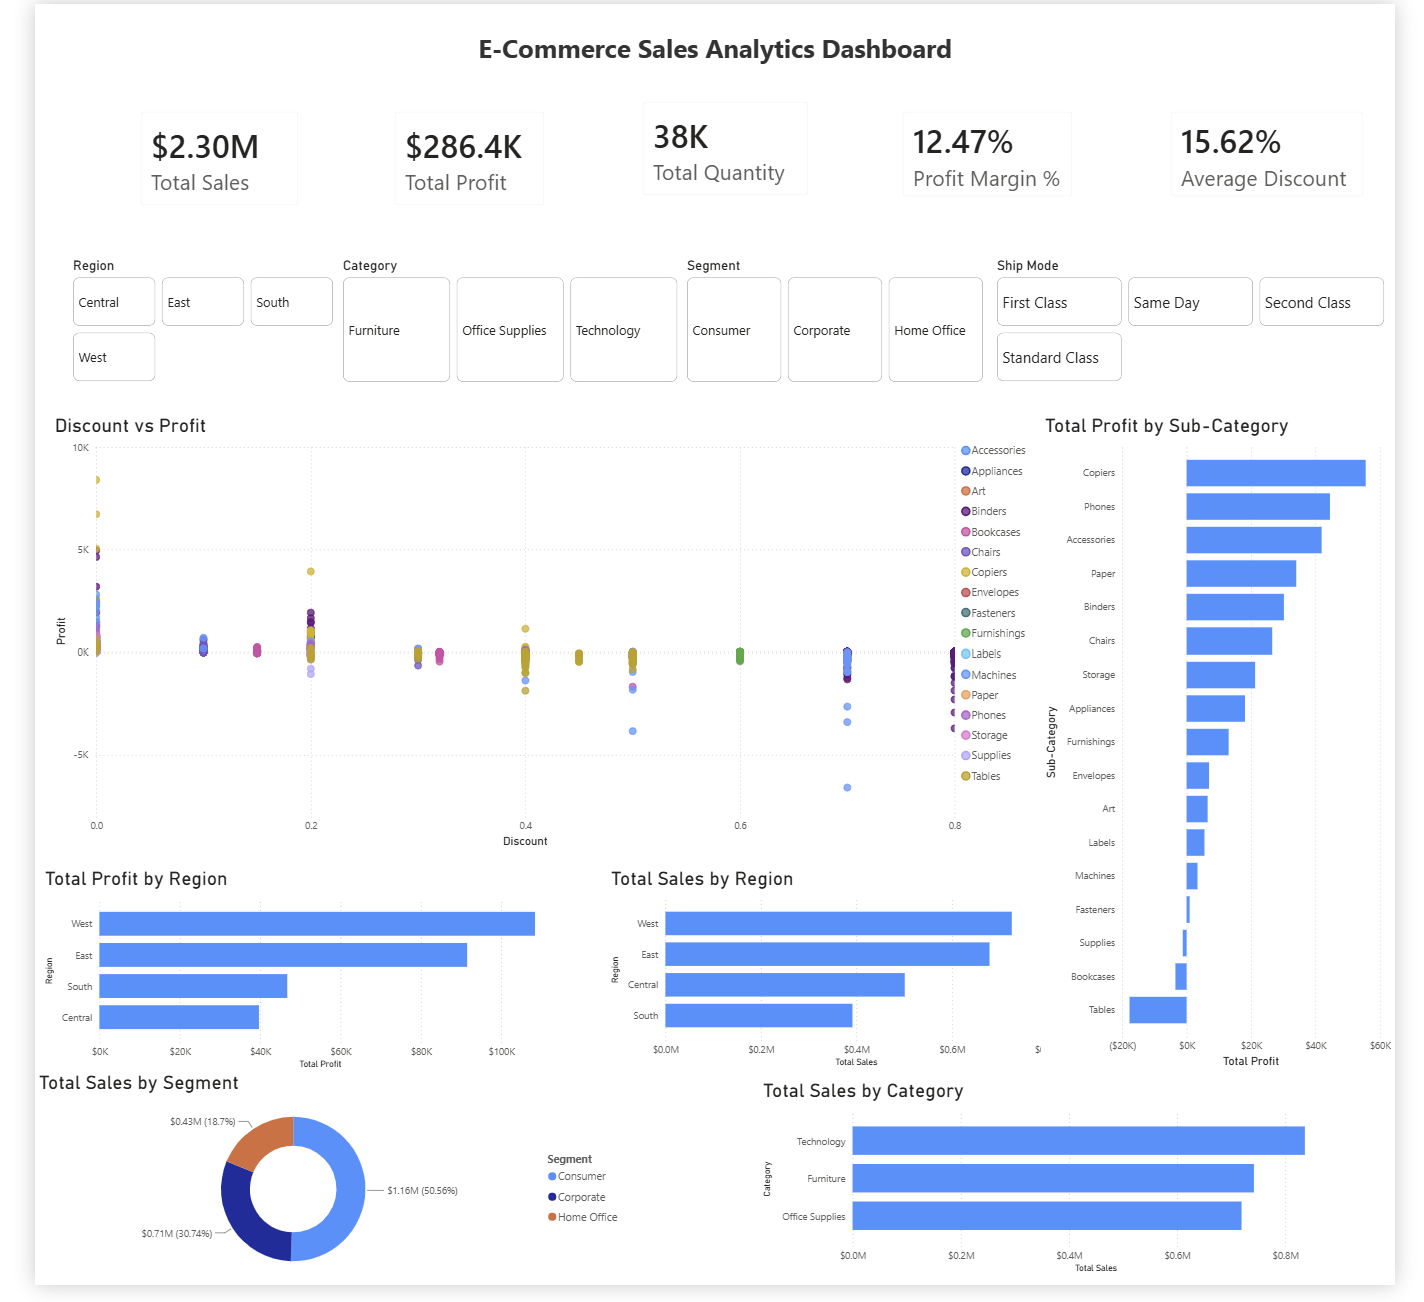

The dashboard page shown, as its layout file describes it:
{"tool":"powerbi","page":{"name":"Page 1","canvas":[1700,1600],"ordinal":0},"visuals":[{"type":"cardVisual","fields":{"Data":["Sales_Data.Total Sales"]},"box":[115,116.7,231.7,151.7],"z":0},{"type":"cardVisual","fields":{"Data":["Sales_Data.Total Profit"]},"box":[431.7,116.7,221.7,151.7],"z":1000},{"type":"cardVisual","fields":{"Data":["Sales_Data.Profit Margin %"]},"box":[1066.7,116.7,246.7,140],"z":2000},{"type":"cardVisual","fields":{"Data":["Sales_Data.Total Quantity"]},"box":[741.7,105,241.7,151.7],"z":3000},{"type":"cardVisual","fields":{"Data":["Sales_Data.Average Discount"]},"box":[1403.3,116.7,275,140],"z":4000},{"type":"clusteredBarChart","fields":{"Category":["Sales_Data.Region"],"Y":["Sales_Data.Total Sales"]},"box":[715,1077.5,572.5,255],"z":5000},{"type":"clusteredBarChart","fields":{"Category":["Sales_Data.Region"],"Y":["Sales_Data.Total Profit"]},"box":[7.5,1077.5,647.5,257.5],"z":6000},{"type":"clusteredBarChart","fields":{"Category":["Sales_Data.Category"],"Y":["Sales_Data.Total Sales"]},"box":[905,1342.5,747.5,247.5],"z":7000},{"type":"clusteredBarChart","fields":{"Category":["Sales_Data.Sub-Category"],"Y":["Sales_Data.Total Profit"]},"box":[1257.5,512.5,442.5,820],"z":8000},{"type":"scatterChart","title":"Discount vs Profit","fields":{"Series":["Sales_Data.Sub-Category"],"X":["Sales_Data.Discount"],"Y":["Sales_Data.Profit"]},"box":[20,512.5,1232.5,545],"z":9000},{"type":"donutChart","fields":{"Category":["Sales_Data.Segment"],"Y":["Sales_Data.Total Sales"]},"box":[0,1332.5,742.5,267.5],"z":10000},{"type":"advancedSlicerVisual","fields":{"Values":["Sales_Data.Region"]},"box":[42.5,317.5,337.5,160],"z":11000},{"type":"advancedSlicerVisual","fields":{"Values":["Sales_Data.Category"]},"box":[380,317.5,428.3,160],"z":12000},{"type":"advancedSlicerVisual","fields":{"Values":["Sales_Data.Segment"]},"box":[810,317.5,380,160],"z":13000},{"type":"advancedSlicerVisual","fields":{"Values":["Sales_Data.Ship Mode"]},"box":[1197.5,317.5,495,160],"z":14000},{"type":"textbox","box":[0,28.3,1700,76.7],"z":15000}]}

Visuals, with their boxes in screenshot pixels (x1, y1, x2, y2), scaled from the page's 1700x1600 canvas onto the 1424x1302 screenshot:
cardVisual - Sales_Data.Total Sales: <bbox>96, 95, 290, 218</bbox>
cardVisual - Sales_Data.Total Profit: <bbox>362, 95, 547, 218</bbox>
cardVisual - Sales_Data.Profit Margin %: <bbox>894, 95, 1100, 209</bbox>
cardVisual - Sales_Data.Total Quantity: <bbox>621, 85, 824, 209</bbox>
cardVisual - Sales_Data.Average Discount: <bbox>1175, 95, 1406, 209</bbox>
clusteredBarChart - Sales_Data.Region x Sales_Data.Total Sales: <bbox>599, 877, 1078, 1084</bbox>
clusteredBarChart - Sales_Data.Region x Sales_Data.Total Profit: <bbox>6, 877, 549, 1086</bbox>
clusteredBarChart - Sales_Data.Category x Sales_Data.Total Sales: <bbox>758, 1092, 1384, 1294</bbox>
clusteredBarChart - Sales_Data.Sub-Category x Sales_Data.Total Profit: <bbox>1053, 417, 1423, 1084</bbox>
"Discount vs Profit" scatterChart: <bbox>17, 417, 1049, 861</bbox>
donutChart - Sales_Data.Segment x Sales_Data.Total Sales: <bbox>0, 1084, 622, 1301</bbox>
advancedSlicerVisual - Sales_Data.Region: <bbox>36, 258, 318, 389</bbox>
advancedSlicerVisual - Sales_Data.Category: <bbox>318, 258, 677, 389</bbox>
advancedSlicerVisual - Sales_Data.Segment: <bbox>678, 258, 997, 389</bbox>
advancedSlicerVisual - Sales_Data.Ship Mode: <bbox>1003, 258, 1418, 389</bbox>
textbox: <bbox>0, 23, 1423, 85</bbox>
